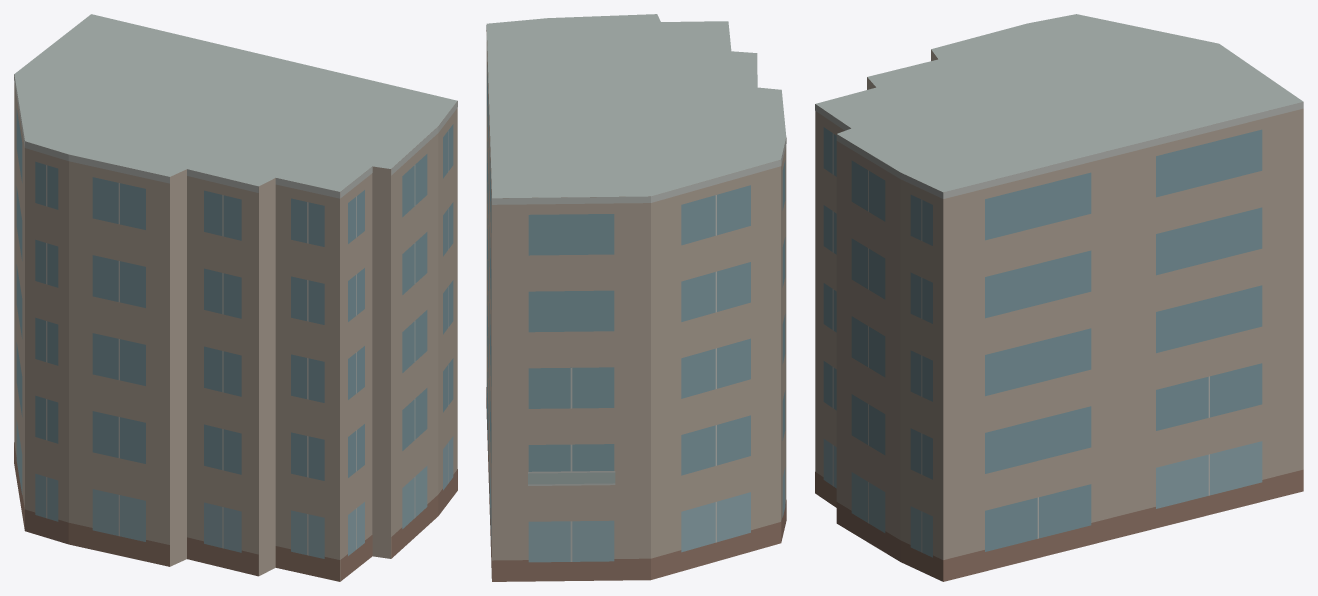
Rendered from survey-upis-32690131.glb.
The picture shows the model from 3 angles, left to right: view 1: azimuth 30°, elevation 25°; view 2: azimuth 150°, elevation 25°; view 3: azimuth 270°, elevation 25°; orthographic projection.
Visible parts, largest first — view 1: survey-upis-32690131.tmp; view 2: survey-upis-32690131.tmp; view 3: survey-upis-32690131.tmp.
Boxes of the visible parts, x1=… form: survey-upis-32690131.tmp: x1=14, y1=14, x2=457, y2=581; survey-upis-32690131.tmp: x1=486, y1=14, x2=786, y2=581; survey-upis-32690131.tmp: x1=815, y1=14, x2=1303, y2=581.
Size of the model in its own units: 13.86 by 14.1 by 16.04.
